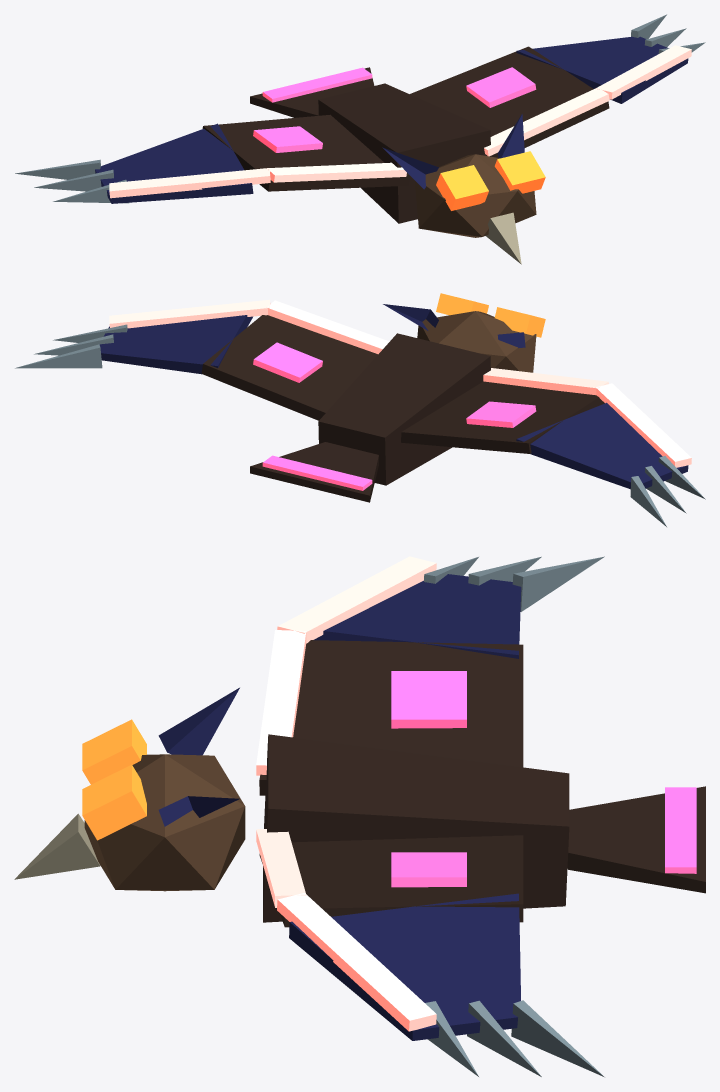
Rendered from wasp.glb.
3 views of the same model, one above another, from view 1: azimuth 30°, elevation 25°; view 2: azimuth 150°, elevation 25°; view 3: azimuth 270°, elevation 25° (orthographic). The views are drawn at different scales.
Visible parts, largest first — view 1: FWaspHull, FWaspGlow; view 2: FWaspHull, FWaspGlow; view 3: FWaspHull, FWaspGlow.
Part boxes in pixels (x1,y1,x2,y2): FWaspHull: [15, 14, 705, 264]; FWaspGlow: [109, 45, 691, 210]; FWaspHull: [15, 304, 705, 526]; FWaspGlow: [109, 293, 691, 490]; FWaspHull: [14, 556, 705, 1077]; FWaspGlow: [82, 556, 696, 1031].
Bounding box in the file's own units: 1.96 × 0.26 × 1.1.
